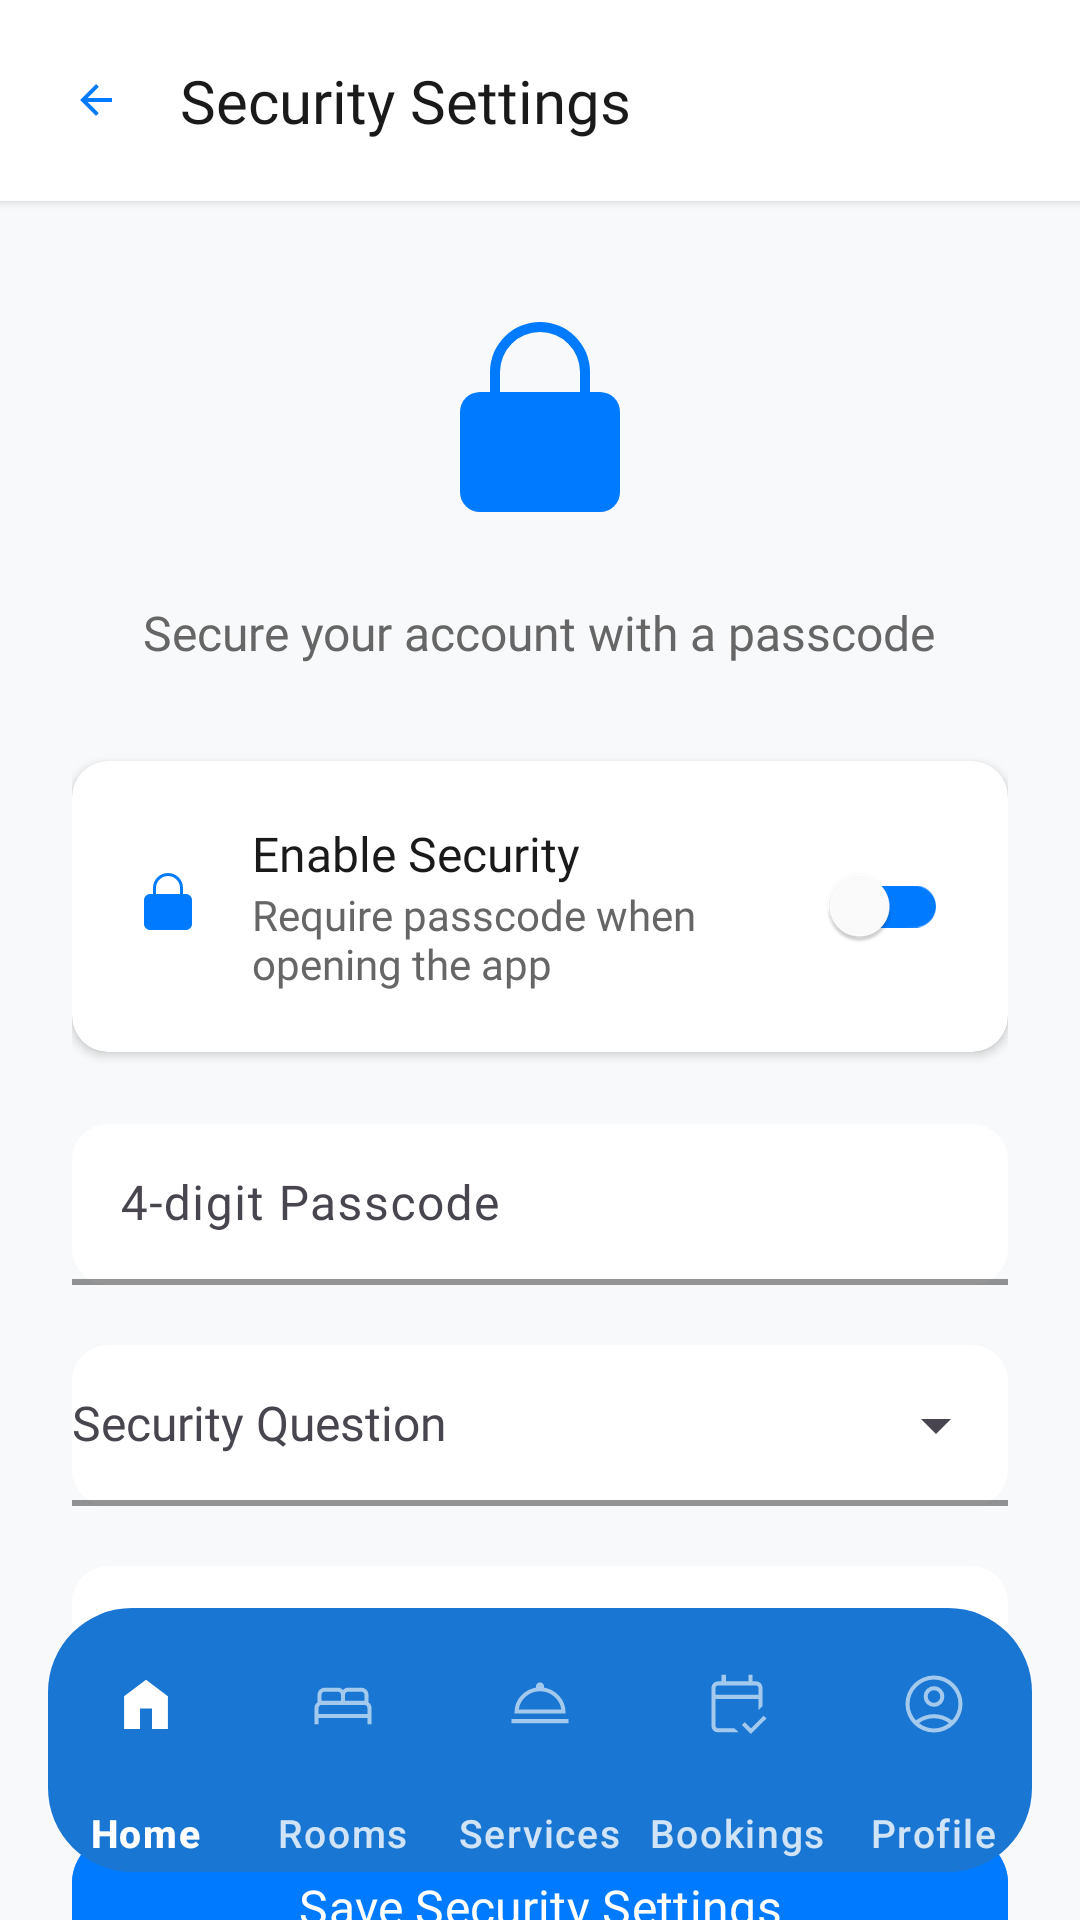

Locate icon controls on the screen. Image size 1080x1920, boxes as (x1, y1, x2, y2).
Back: (80, 84, 112, 116)
